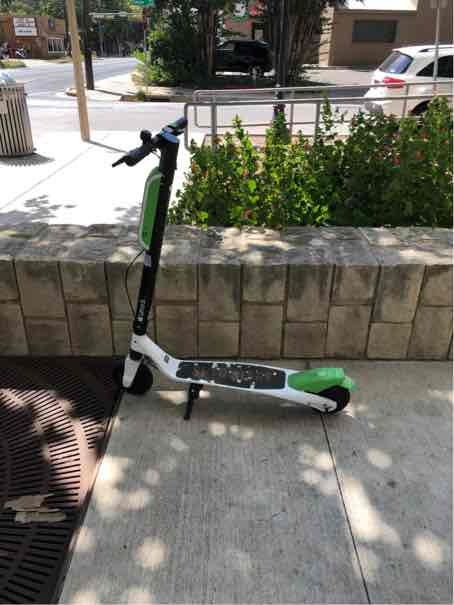scooter: (106, 97, 358, 429)
